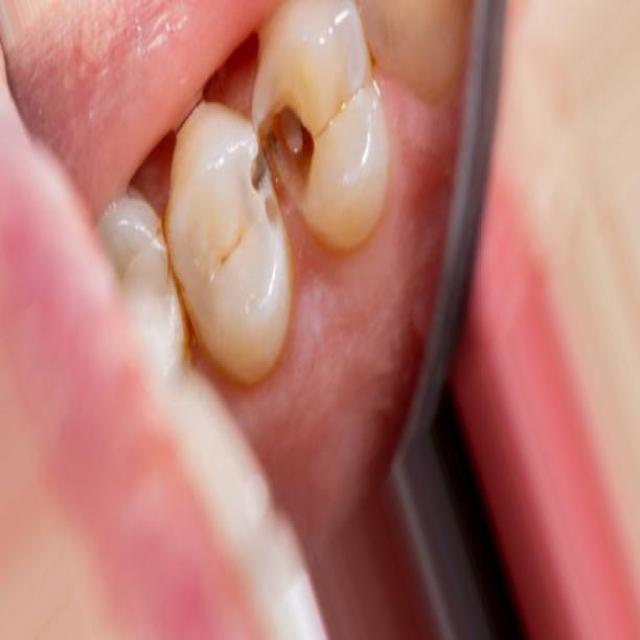caries: (222, 72, 328, 220)
